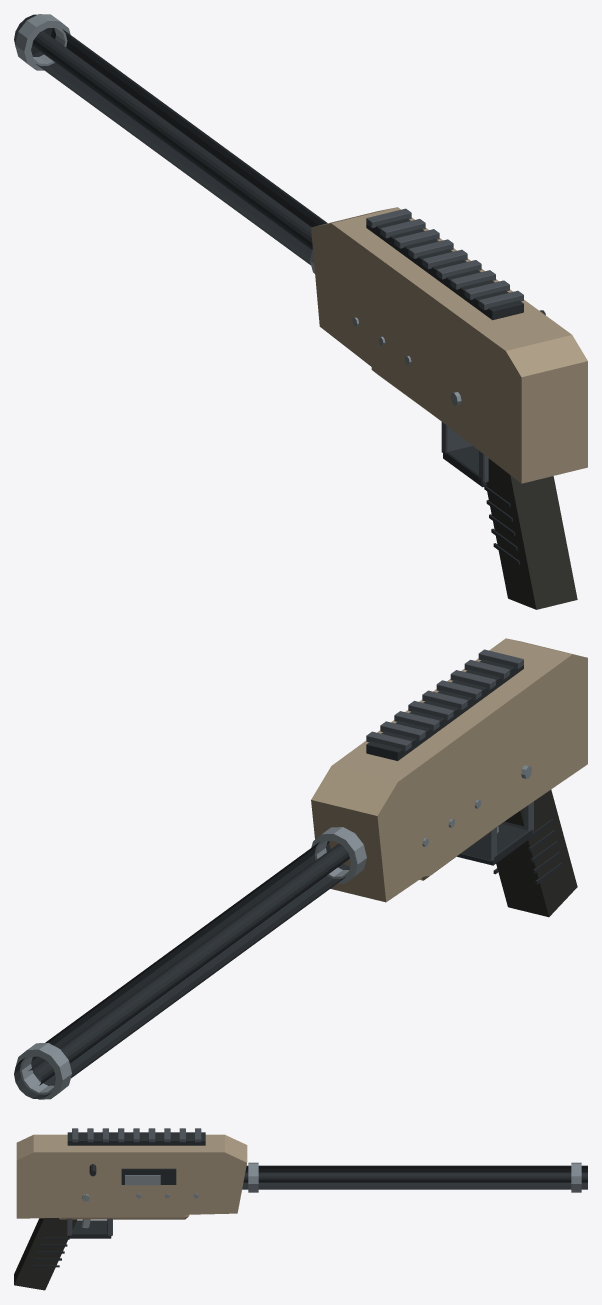
Rendered from weapon_ram12.glb.
3 renders of one model, top to bottom at view 1: azimuth 30°, elevation 25°; view 2: azimuth 150°, elevation 25°; view 3: azimuth 270°, elevation 25°, orthographic. The views are drawn at different scales.
Visible parts, largest first — view 1: Geometry_weapon_ram12; view 2: Geometry_weapon_ram12; view 3: Geometry_weapon_ram12.
Boxes of the visible parts, bbox=[...] form: Geometry_weapon_ram12: bbox=[14, 14, 587, 609]; Geometry_weapon_ram12: bbox=[14, 638, 587, 1099]; Geometry_weapon_ram12: bbox=[14, 1128, 587, 1290].
Size of the model in its own units: 0.095 by 0.262 by 0.901.
